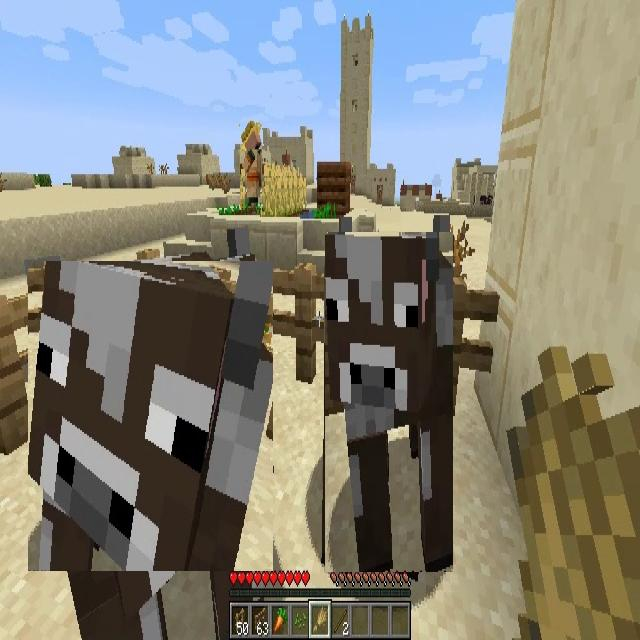cow: (28, 261, 273, 571), (325, 232, 453, 572)
people: (240, 120, 262, 210)
